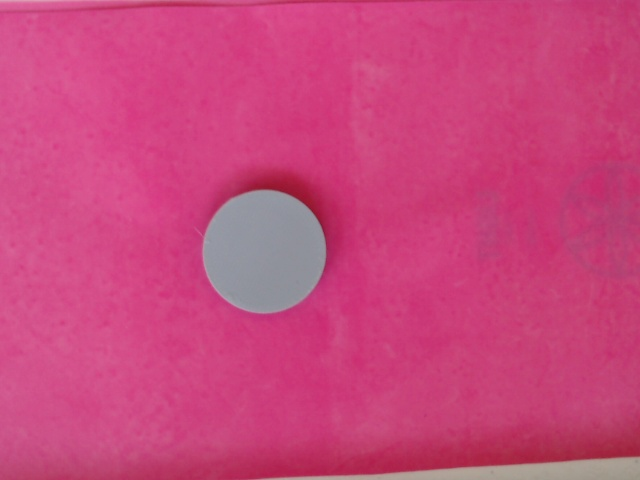NonDefective: (200, 188, 333, 317)
